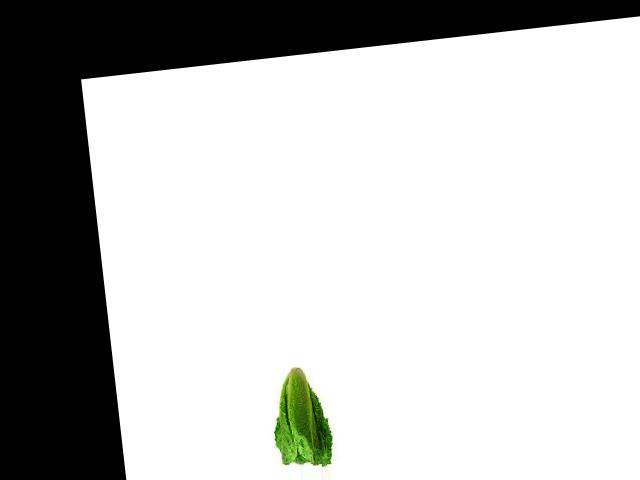lettuce: (263, 362, 340, 472)
